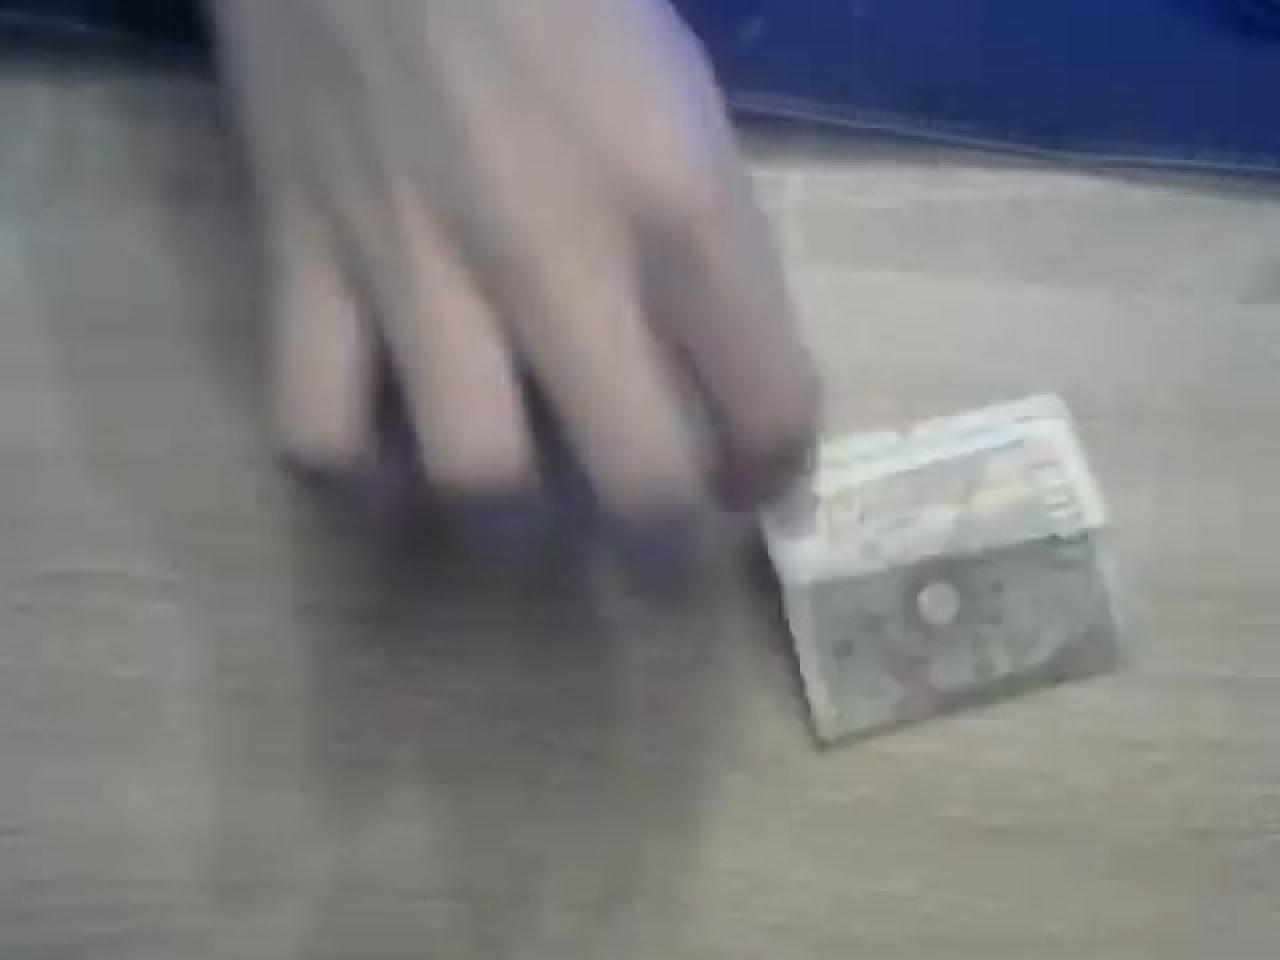10leva: (752, 386, 1128, 746)
